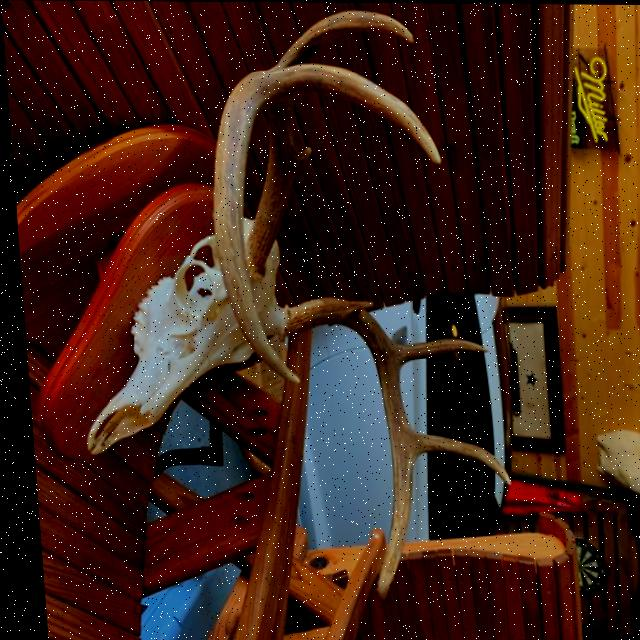L-F: (280, 297, 405, 599)
L-G1: (342, 300, 368, 309)
L-G2: (387, 338, 483, 367)
L-G3: (403, 429, 503, 485)
R-G2: (244, 63, 438, 165)
